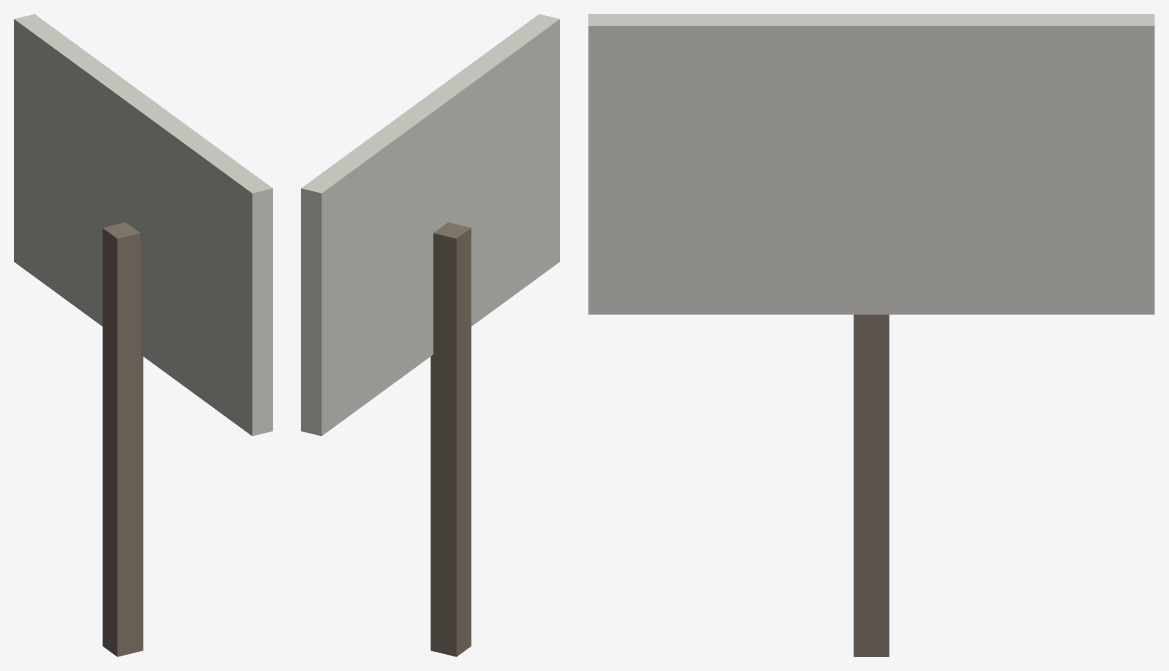
File: reed_sign.glb
The picture shows the model from 3 angles, left to right: view 1: azimuth 30°, elevation 25°; view 2: azimuth 150°, elevation 25°; view 3: azimuth 270°, elevation 25°; orthographic projection. The views are drawn at different scales.
Parts seen in each view (by area): view 1: SM_SignPost; view 2: SM_SignPost; view 3: SM_SignPost.
Part boxes in pixels (left/top/right/bottom): SM_SignPost: left=14, top=14, right=272, bottom=656; SM_SignPost: left=301, top=14, right=559, bottom=656; SM_SignPost: left=588, top=14, right=1154, bottom=656.
Bounding box in the file's own units: 0.17 × 2 × 1.6.
